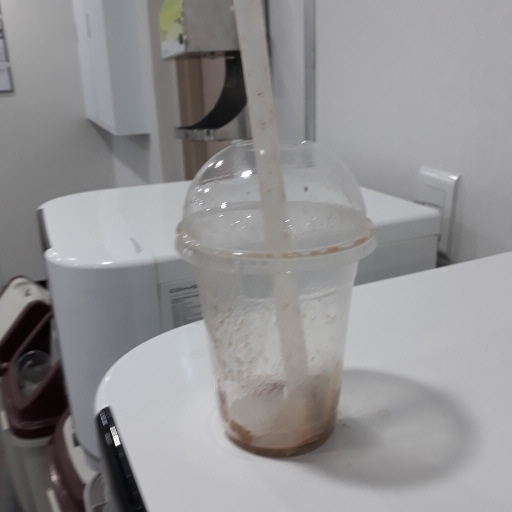Plastic_2: (177, 1, 375, 456)
